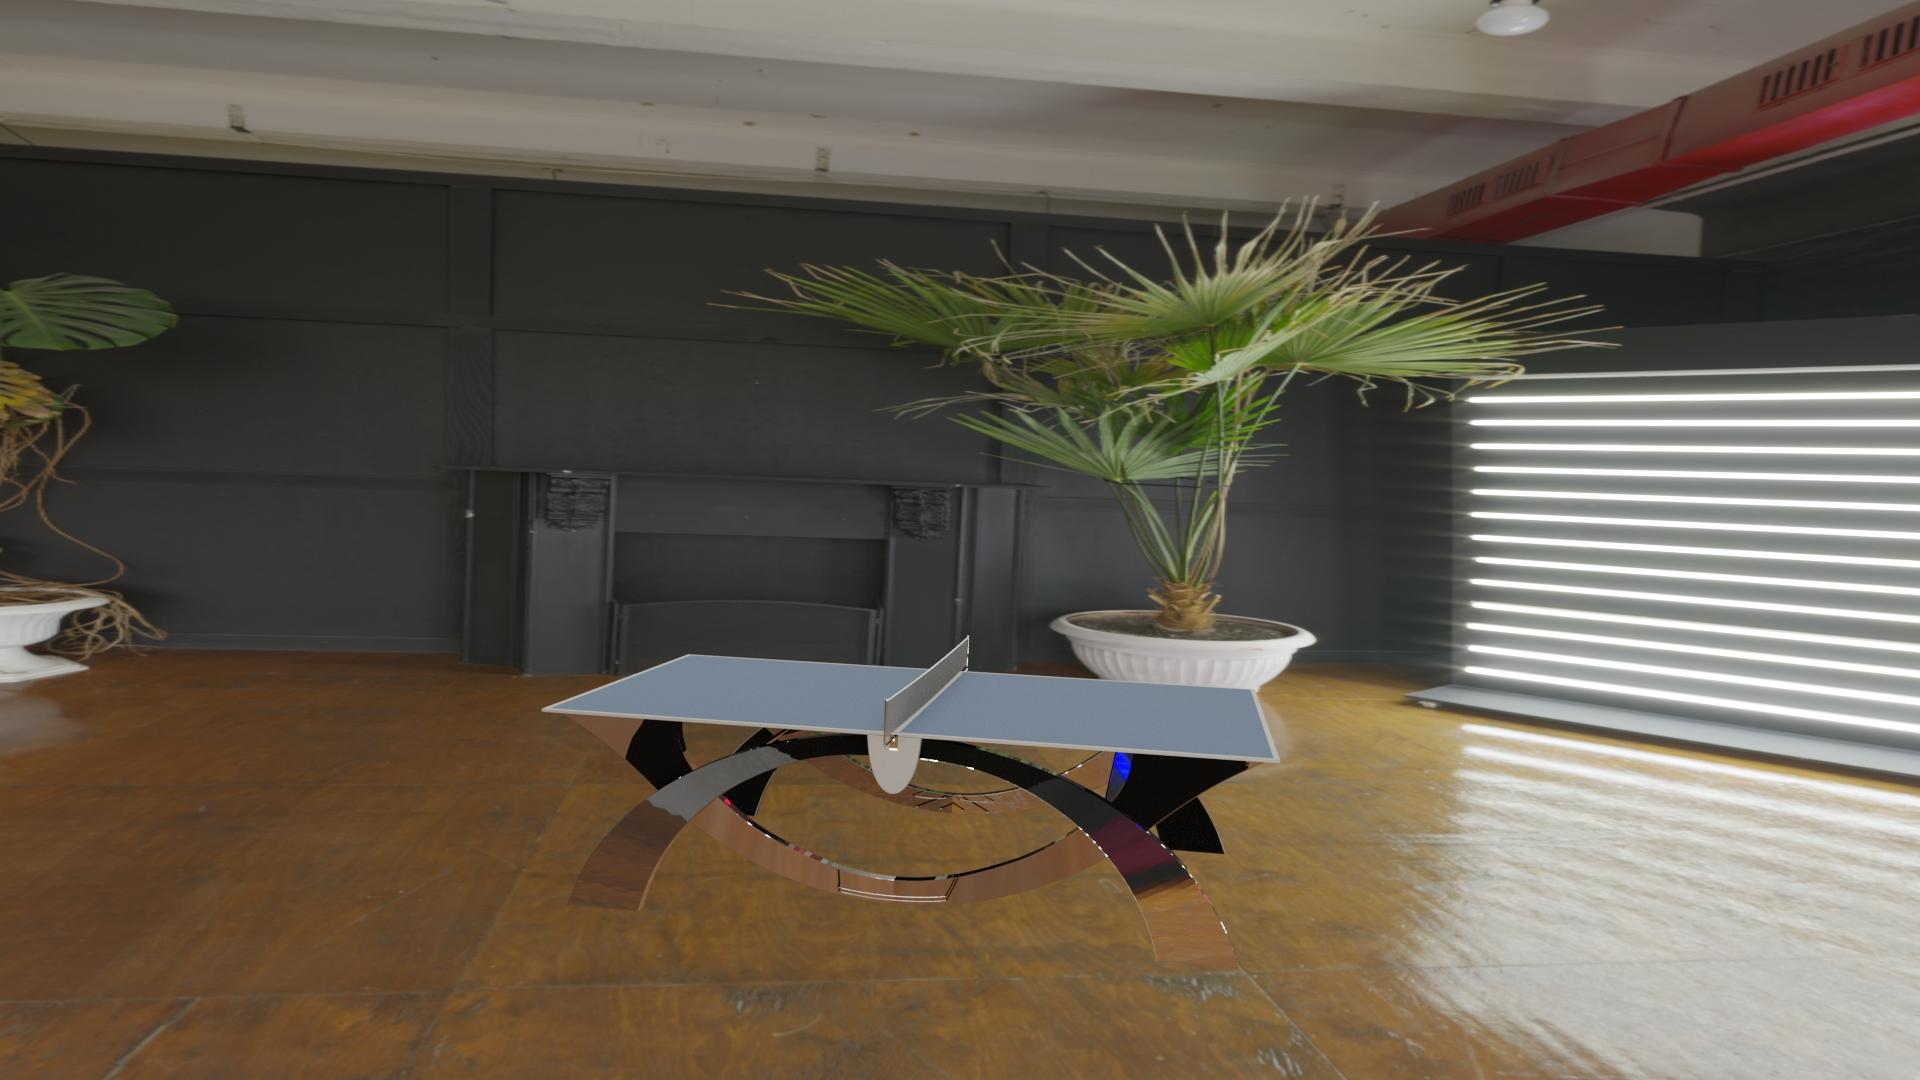table: (549, 655, 1274, 758)
